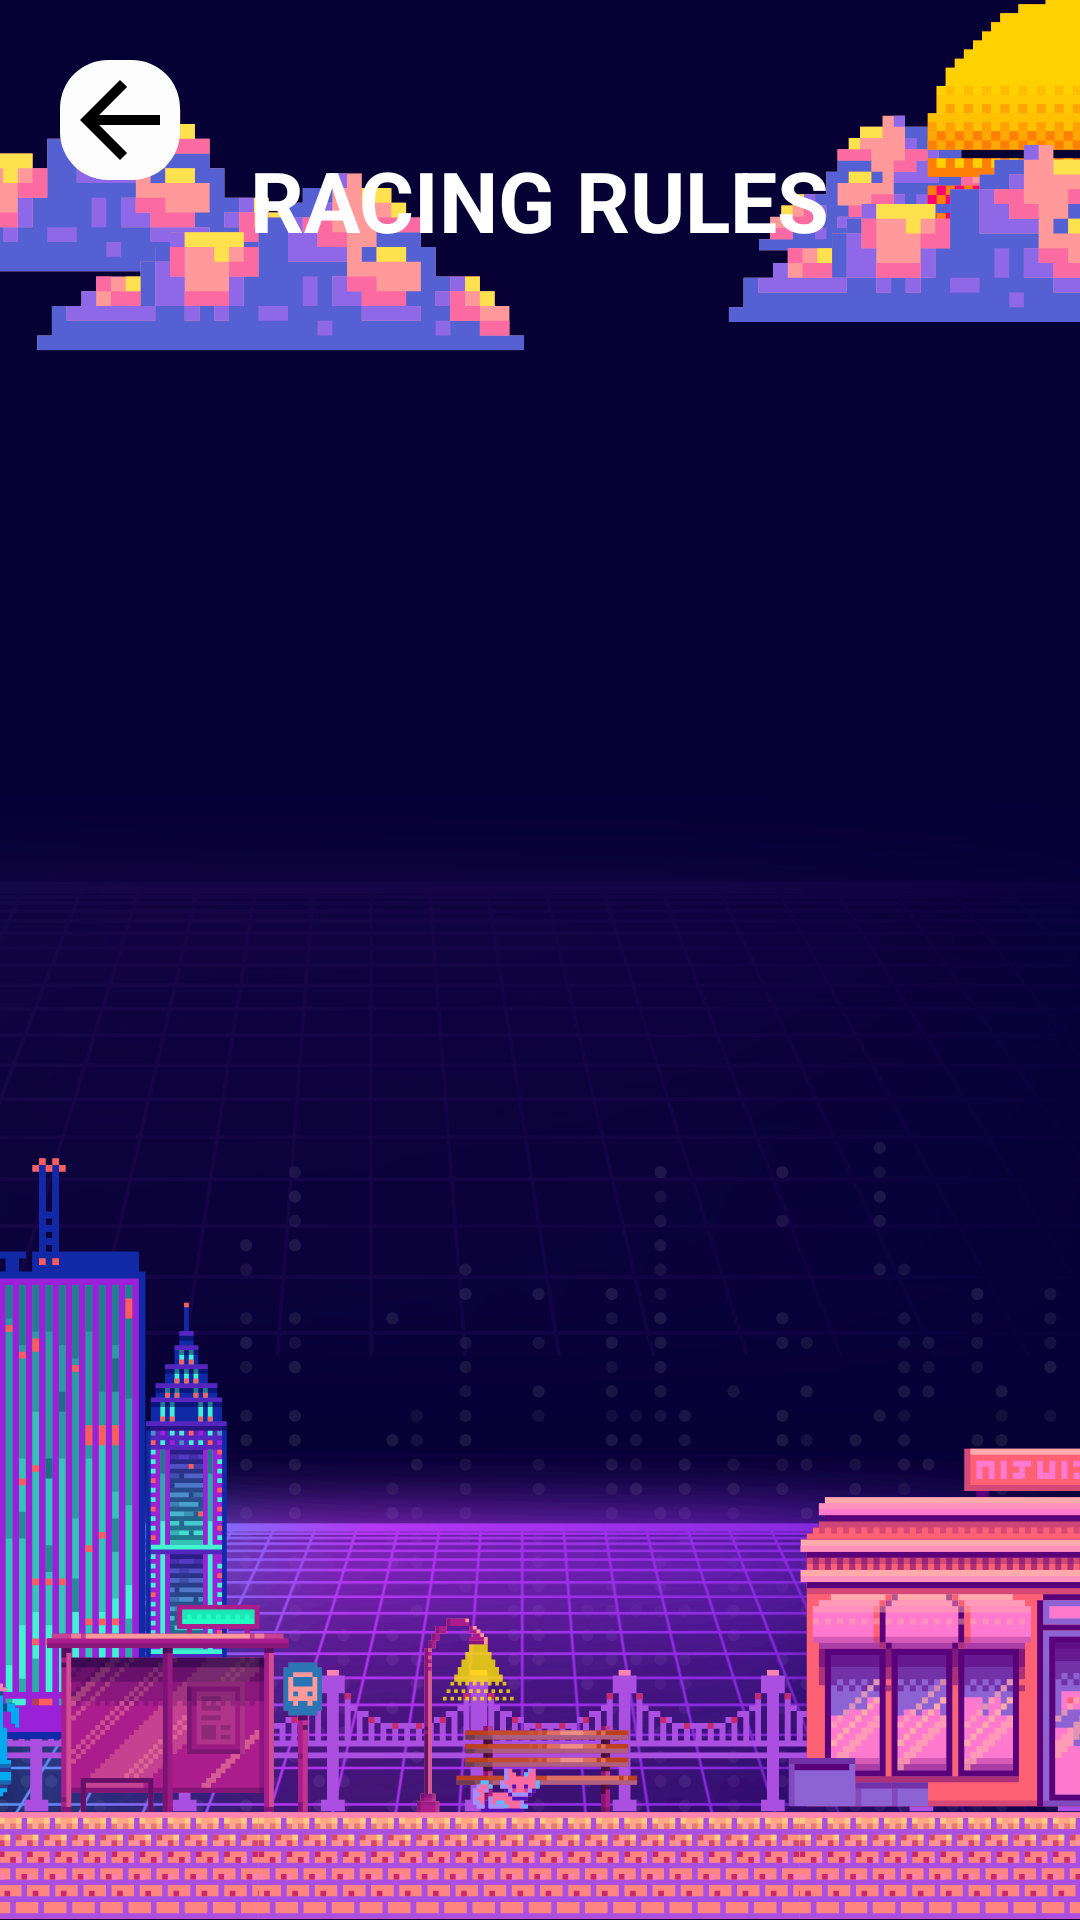

Point at icon controls on the screen. Image size 1080 x 1920, points as (x,y).
back: (120,120)
